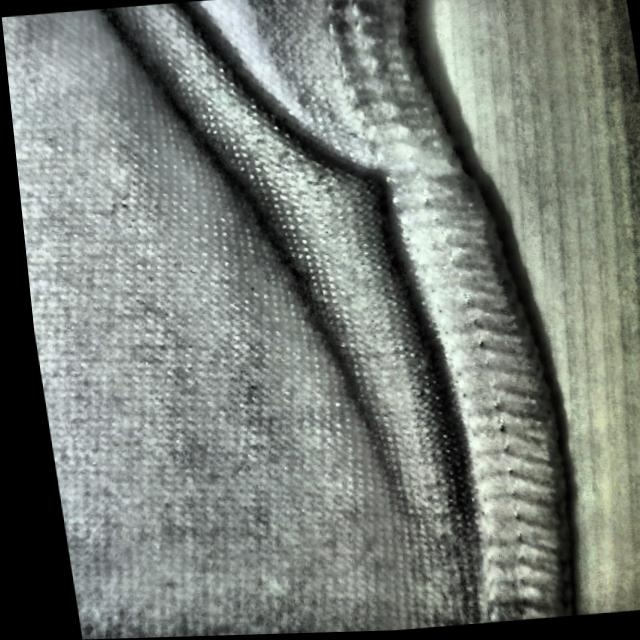seam: (224, 73, 516, 348)
